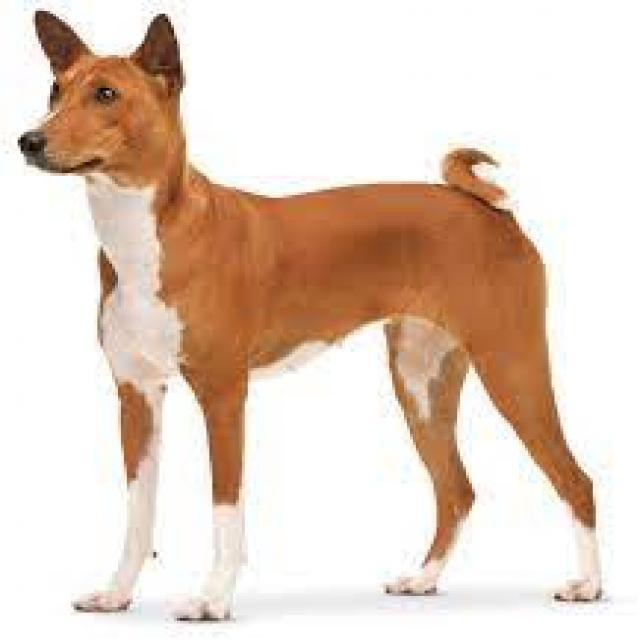dogs: (13, 6, 610, 624)
